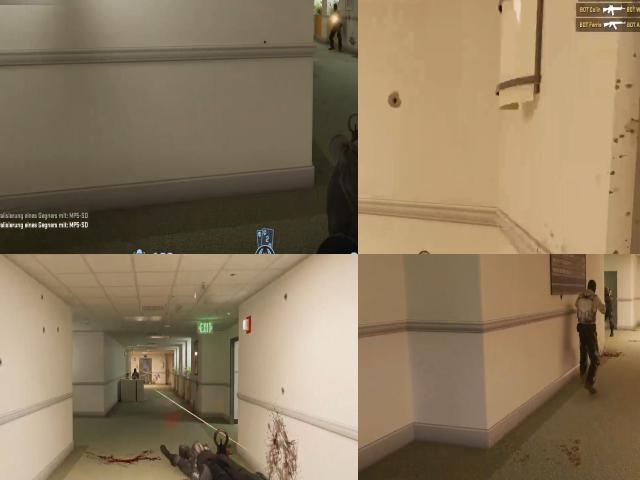CT: (605, 285, 616, 328)
CT-Head: (605, 283, 612, 295)
T: (577, 282, 600, 336), (330, 0, 344, 33), (130, 366, 140, 379)
T-Head: (584, 278, 599, 298), (331, 2, 341, 14)
